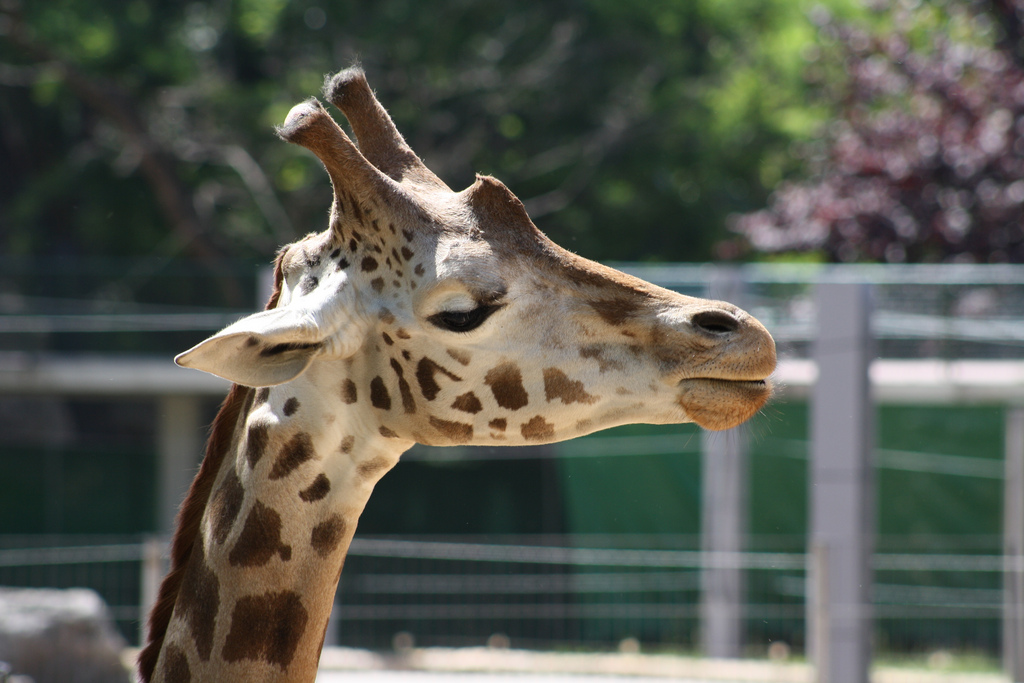giraffe: (150, 76, 806, 683)
